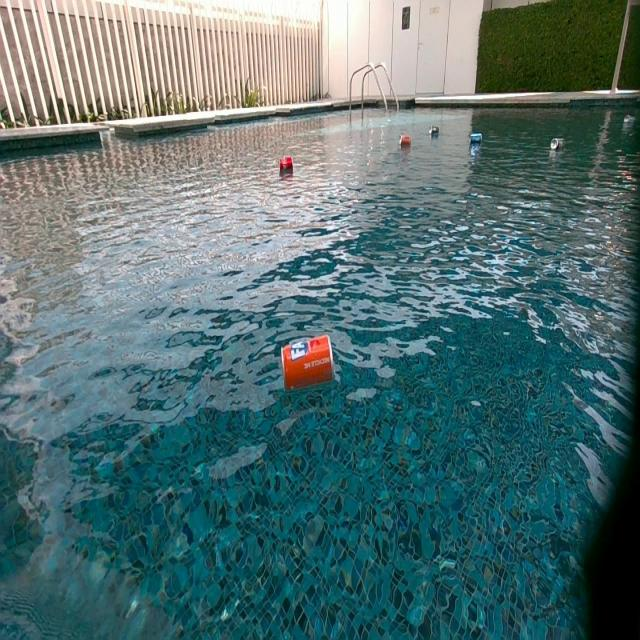Cans: (283, 334, 334, 393), (283, 336, 323, 365), (279, 157, 294, 175), (550, 138, 565, 152), (468, 134, 482, 146), (399, 134, 410, 148), (429, 126, 439, 140), (623, 114, 633, 122)
